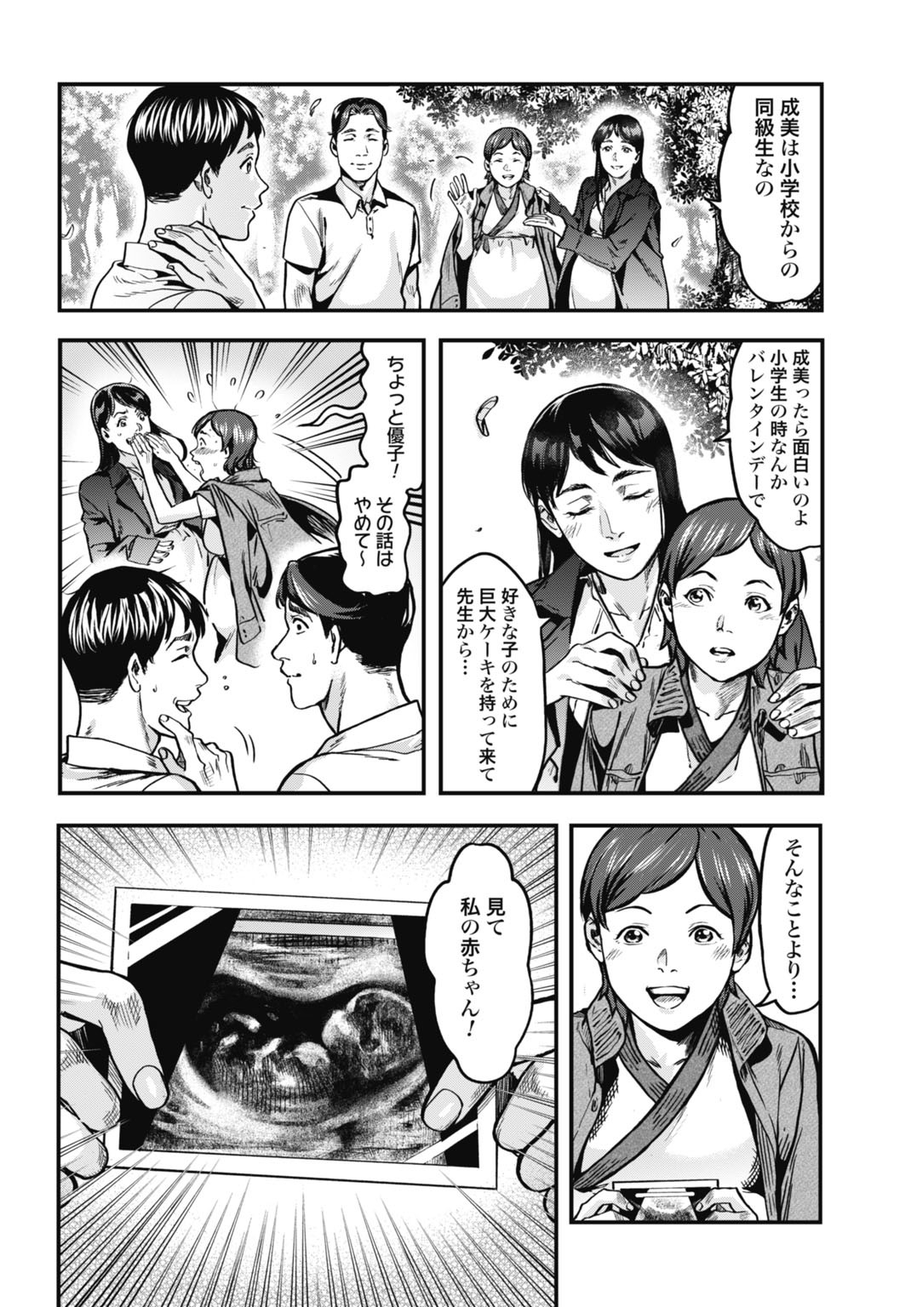bubbles: (297, 343, 427, 607), (410, 836, 543, 1093), (440, 550, 559, 793), (713, 84, 820, 308), (719, 343, 822, 557), (737, 826, 823, 1033)
